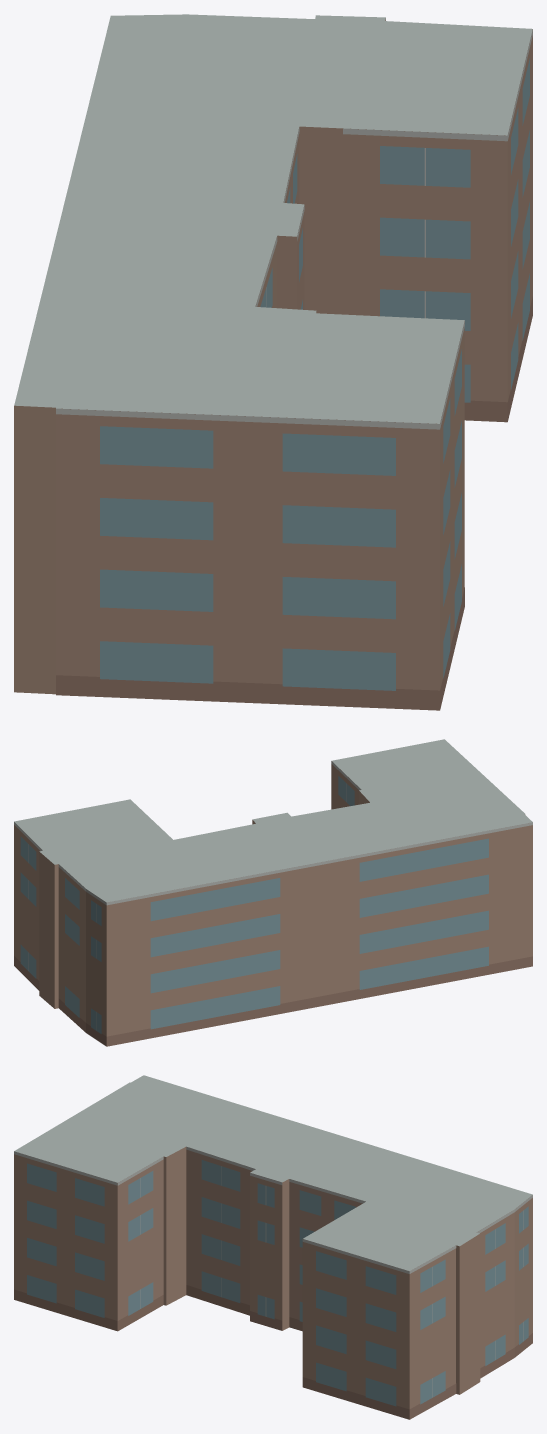
File: survey-upis-32902819.glb
3 views of the same model, one above another, from view 1: azimuth 30°, elevation 25°; view 2: azimuth 150°, elevation 25°; view 3: azimuth 270°, elevation 25° (orthographic). The views are drawn at different scales.
Visible parts, largest first — view 1: survey-upis-32902819.tmp; view 2: survey-upis-32902819.tmp; view 3: survey-upis-32902819.tmp.
Part boxes in pixels (x1=…): survey-upis-32902819.tmp: x1=14, y1=14, x2=532, y2=710; survey-upis-32902819.tmp: x1=14, y1=739, x2=532, y2=1046; survey-upis-32902819.tmp: x1=14, y1=1075, x2=532, y2=1419.
Bounding box in the file's own units: 34.53 × 12.2 × 38.62.
